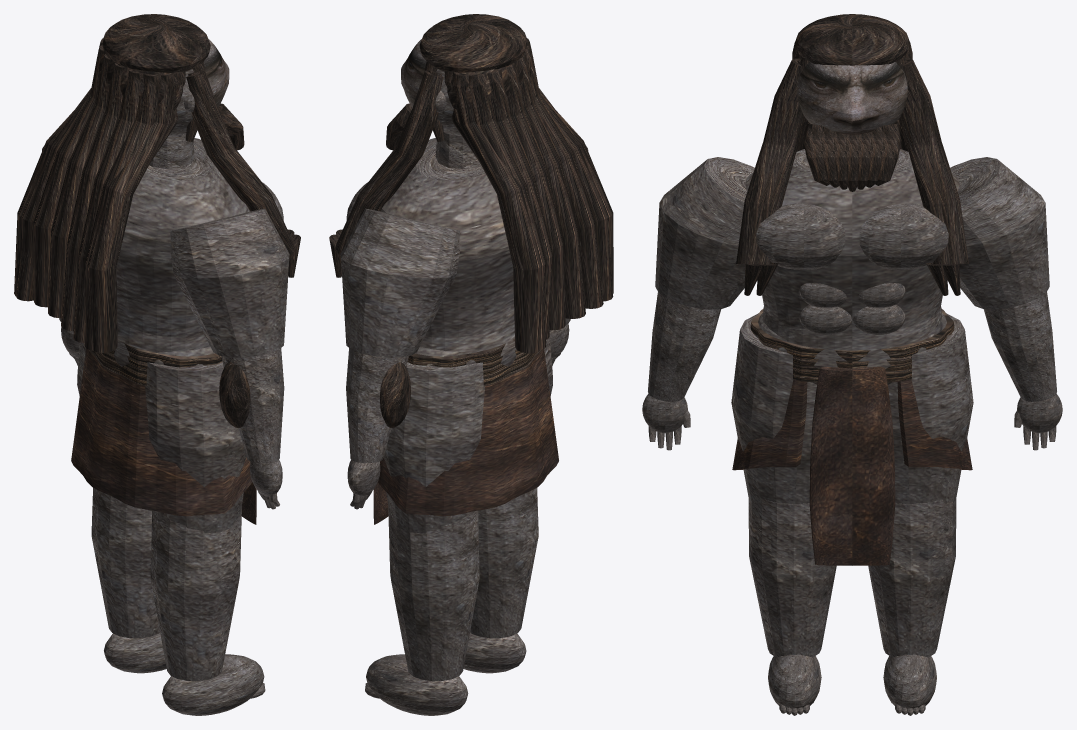
Rendered from noshtex.obj.
3 views of the same model, side by side, from view 1: azimuth 30°, elevation 25°; view 2: azimuth 150°, elevation 25°; view 3: azimuth 270°, elevation 25° (orthographic).
Parts seen in each view (by area): view 1: torso_skin, left_upper_skin, forest_wrap_hide, left_shin_skin, left_thigh_skin, right_shin_skin, hair_lock_08_hair, hair_crown_hair, left_front_lock_1_hair, left_fore_skin, hair_lock_04_hair, left_foot_skin (+18 smaller); view 2: torso_skin, right_upper_skin, forest_wrap_hide, right_shin_skin, right_thigh_skin, left_shin_skin, hair_lock_01_hair, hair_crown_hair, right_front_lock_1_hair, right_fore_skin, hair_lock_05_hair, hair_lock_06_hair (+19 smaller); view 3: front_cloth_hide, torso_skin, left_upper_skin, right_upper_skin, right_shin_skin, left_shin_skin, left_thigh_skin, right_thigh_skin, head_face, forest_wrap_hide, left_fore_skin, right_fore_skin (+24 smaller).
Boxes of the visible parts, x1=… form: torso_skin: x1=115, y1=142, x2=249, y2=356; left_upper_skin: x1=170, y1=208, x2=289, y2=357; forest_wrap_hide: x1=71, y1=349, x2=252, y2=516; left_shin_skin: x1=150, y1=506, x2=241, y2=681; left_thigh_skin: x1=145, y1=362, x2=246, y2=533; right_shin_skin: x1=91, y1=487, x2=159, y2=638; hair_lock_08_hair: x1=87, y1=72, x2=178, y2=352; hair_crown_hair: x1=102, y1=14, x2=210, y2=72; left_front_lock_1_hair: x1=186, y1=70, x2=300, y2=277; left_fore_skin: x1=221, y1=348, x2=284, y2=463; hair_lock_04_hair: x1=48, y1=54, x2=110, y2=318; left_foot_skin: x1=162, y1=654, x2=264, y2=715; torso_skin: x1=380, y1=142, x2=516, y2=356; right_upper_skin: x1=340, y1=208, x2=459, y2=357; forest_wrap_hide: x1=378, y1=349, x2=558, y2=516; right_shin_skin: x1=388, y1=506, x2=479, y2=681; right_thigh_skin: x1=383, y1=362, x2=485, y2=533; left_shin_skin: x1=470, y1=488, x2=538, y2=638; hair_lock_01_hair: x1=452, y1=72, x2=541, y2=353; hair_crown_hair: x1=419, y1=14, x2=527, y2=72; right_front_lock_1_hair: x1=329, y1=70, x2=443, y2=277; right_fore_skin: x1=346, y1=348, x2=408, y2=463; hair_lock_05_hair: x1=519, y1=54, x2=585, y2=318; hair_lock_06_hair: x1=526, y1=44, x2=603, y2=308; front_cloth_hide: x1=809, y1=366, x2=895, y2=565; torso_skin: x1=745, y1=149, x2=959, y2=361; left_upper_skin: x1=655, y1=157, x2=754, y2=309; right_upper_skin: x1=950, y1=157, x2=1049, y2=309; right_shin_skin: x1=868, y1=498, x2=956, y2=657; left_shin_skin: x1=748, y1=498, x2=836, y2=657; left_thigh_skin: x1=731, y1=313, x2=816, y2=504; right_thigh_skin: x1=888, y1=313, x2=973, y2=504; head_face: x1=797, y1=62, x2=907, y2=134; forest_wrap_hide: x1=732, y1=379, x2=972, y2=470; left_fore_skin: x1=648, y1=292, x2=721, y2=401; right_fore_skin: x1=983, y1=292, x2=1056, y2=401.
Bounding box in the file's own units: 31.08 × 100 × 57.18.
Materials: 1 (1 with a texture image).
